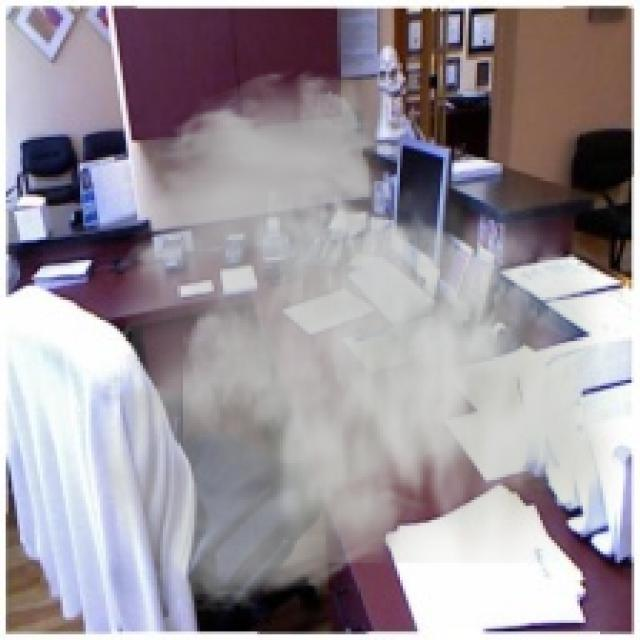smoke: (94, 66, 623, 617)
